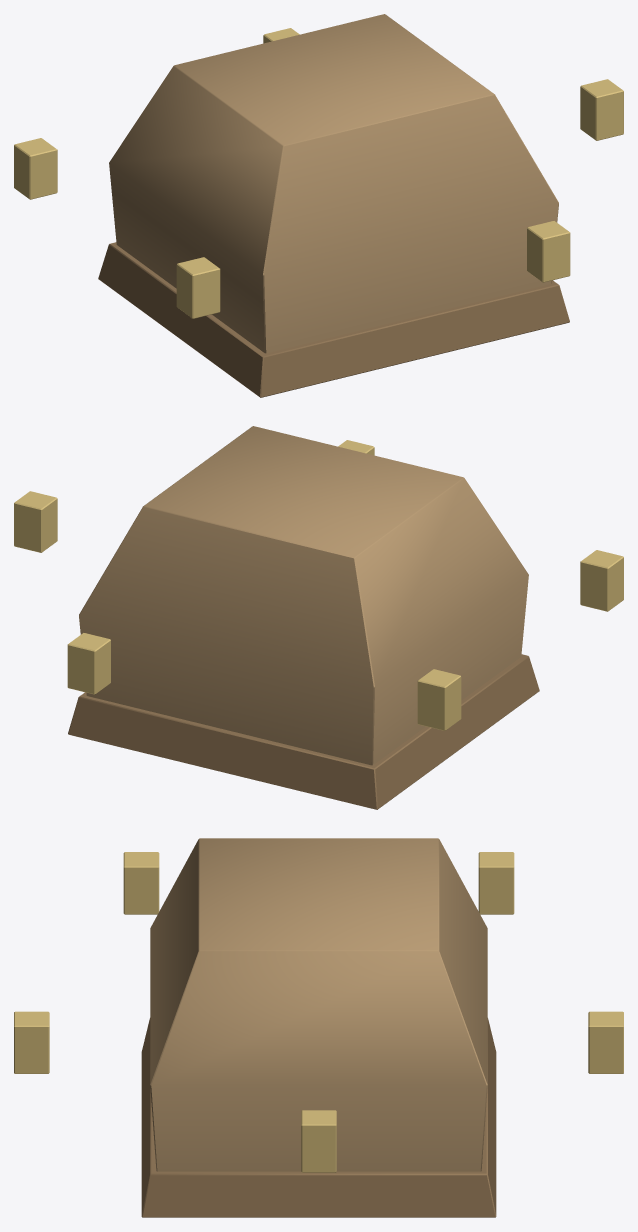
Rendered from IT_wood_helmet.fbx.
3 renders of one model, top to bottom at view 1: azimuth 30°, elevation 25°; view 2: azimuth 150°, elevation 25°; view 3: azimuth 270°, elevation 25°, orthographic. The views are drawn at different scales.
Parts seen in each view (by area): view 1: IT_wood_helmet; view 2: IT_wood_helmet; view 3: IT_wood_helmet.
Part boxes in pixels (x1,y1,x2,y2): IT_wood_helmet: (14,14,623,397); IT_wood_helmet: (14,426,623,809); IT_wood_helmet: (14,838,623,1217).
Size of the model in its own units: 0.7274 by 0.3 by 0.6867.
